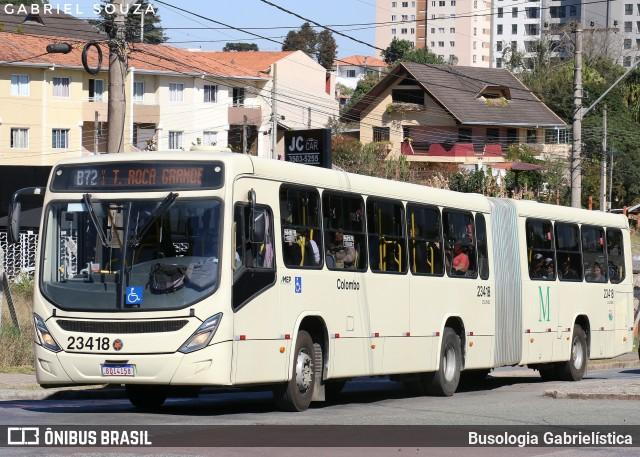ROCA GRANDE: (124, 166, 205, 186)
